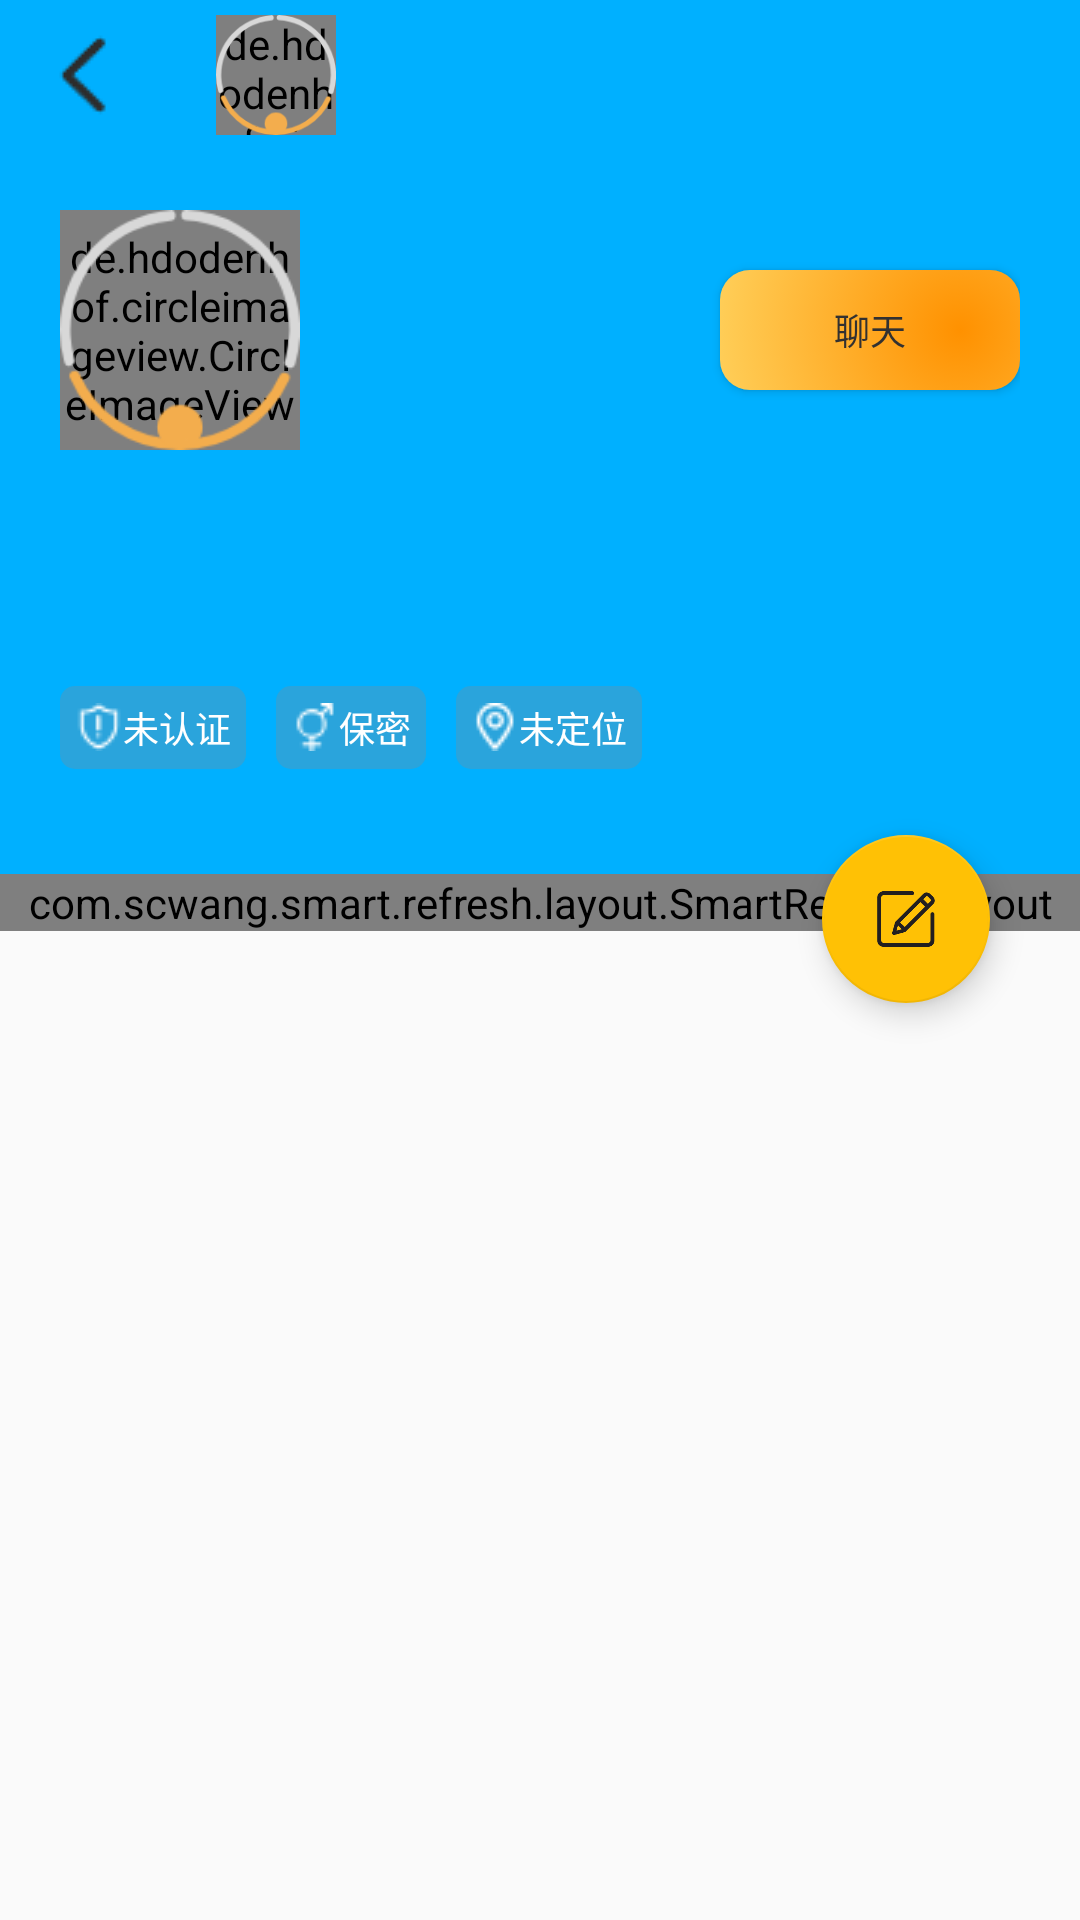

Screen size 1080 x 1920. Icon name, then its center in pixels as [x,y]:
edit: [906,919]
